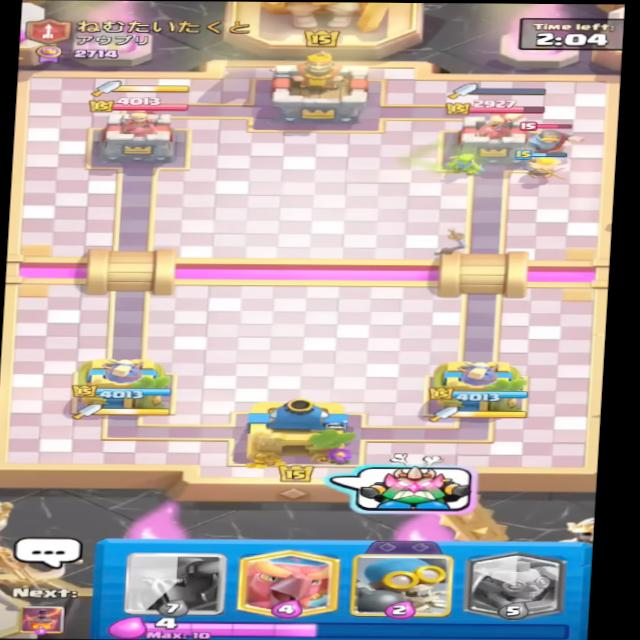Knight: (502, 121, 581, 165)
